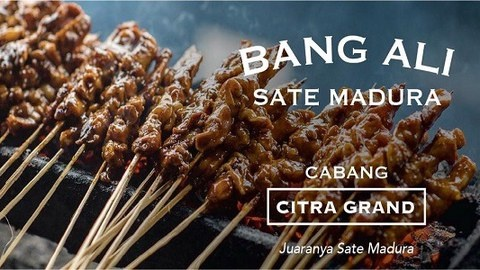sate_madura: (1, 2, 480, 270)
